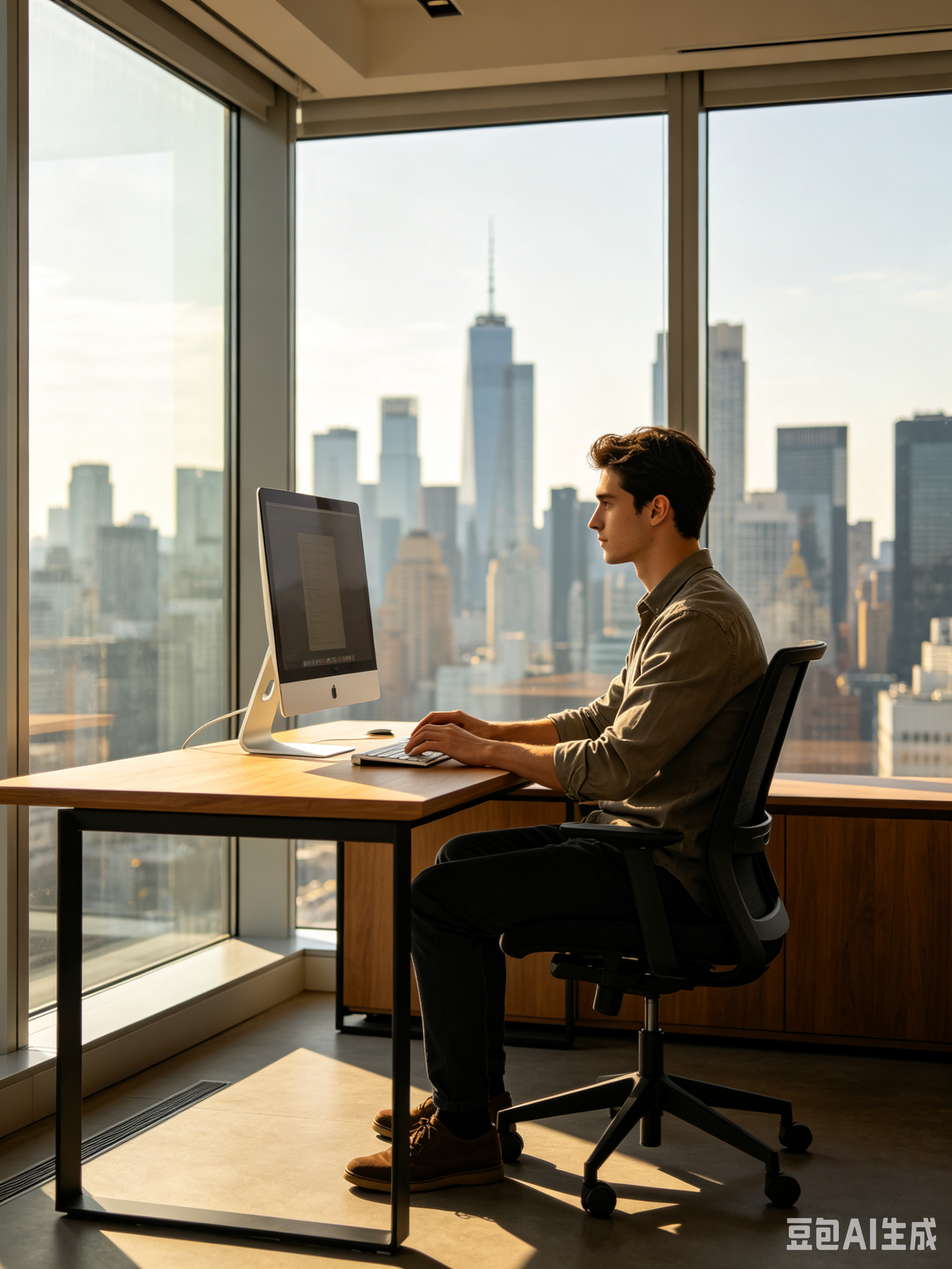sitting_good: (370, 425, 727, 1130)
